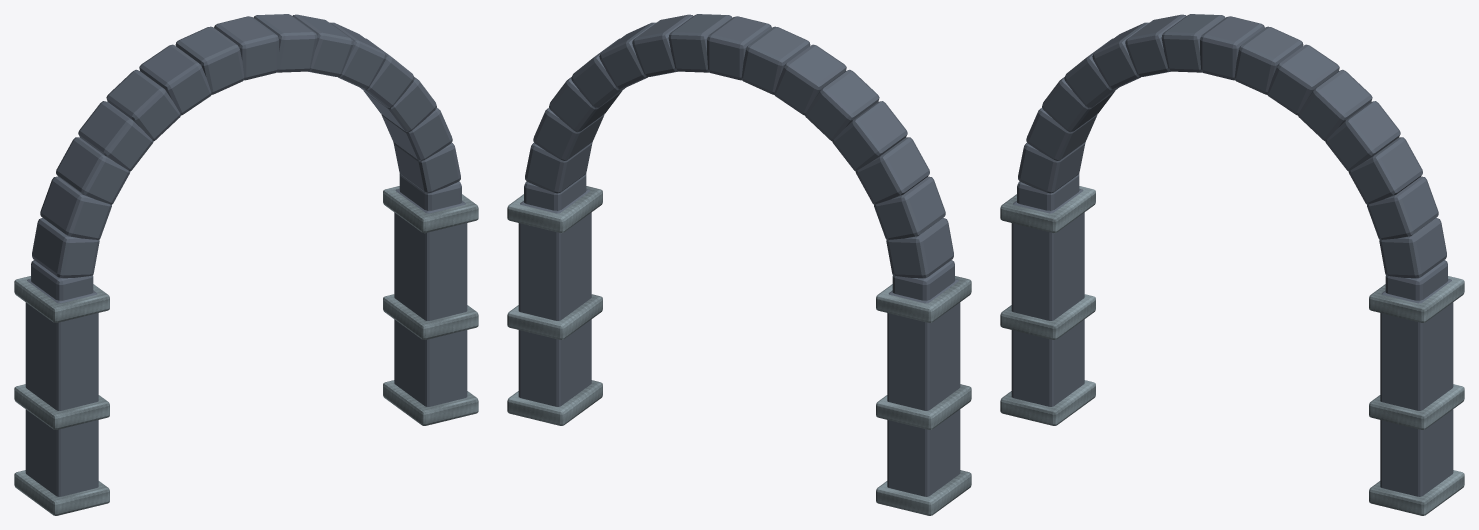
File: culvert.glb
3 renders of one model, left to right at view 1: azimuth 30°, elevation 25°; view 2: azimuth 150°, elevation 25°; view 3: azimuth 330°, elevation 25°, orthographic.
Visible parts, largest first — view 1: culvert; view 2: culvert; view 3: culvert.
Part boxes in pixels (x1,y1,x2,y2): culvert: (14, 14, 478, 515); culvert: (507, 14, 971, 515); culvert: (1000, 14, 1464, 515).
Size of the model in its own units: 5.08 by 4.82 by 0.86.
2 materials, 1 textured.
